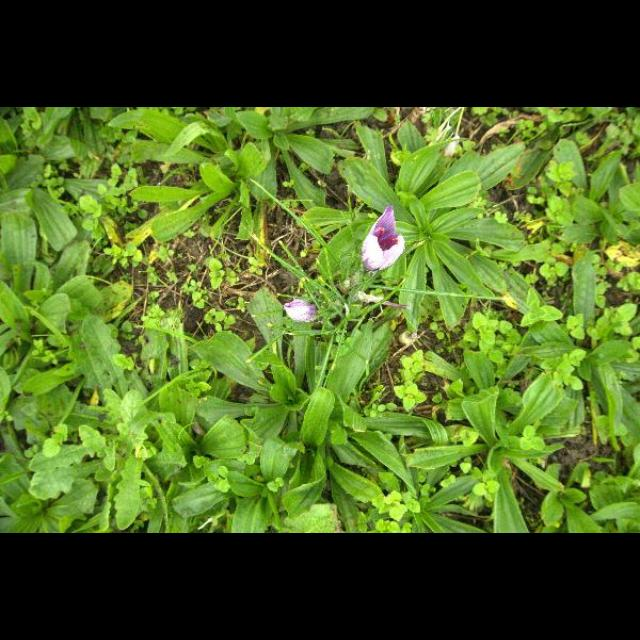flower: (360, 205, 406, 275), (282, 299, 320, 323)
